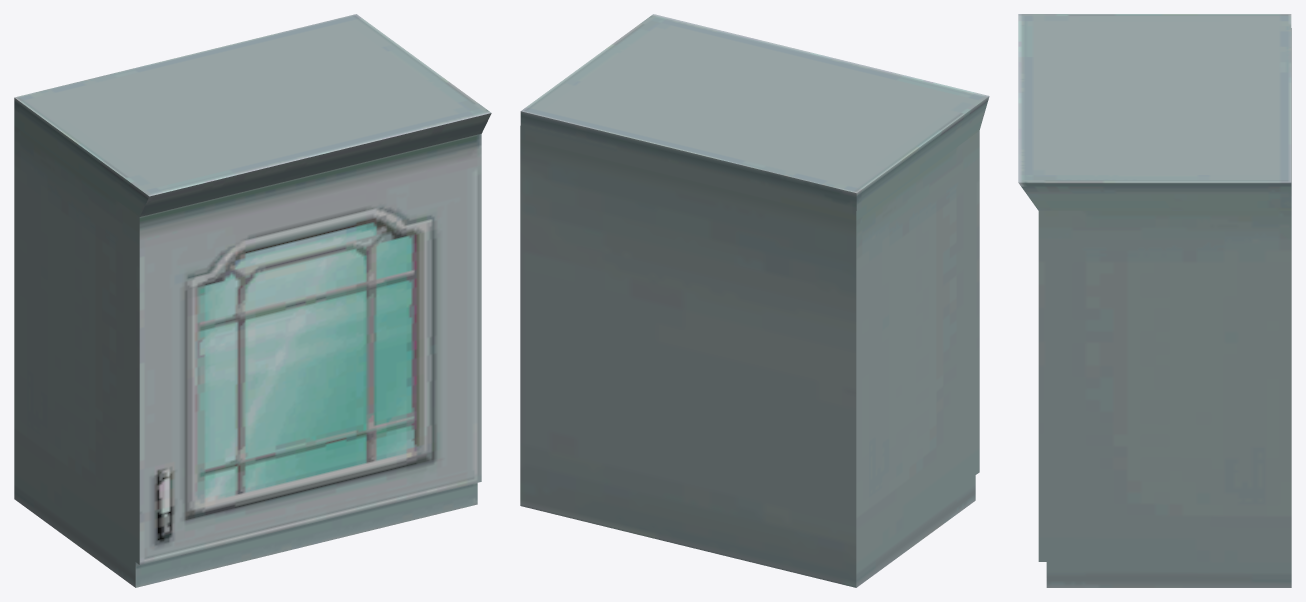
Rendered from furni_0200088_03.FBX.
3 views of the same model, side by side, from view 1: azimuth 30°, elevation 25°; view 2: azimuth 150°, elevation 25°; view 3: azimuth 270°, elevation 25° (orthographic). The views are drawn at different scales.
Parts seen in each view (by area): view 1: furni_0200088_03; view 2: furni_0200088_03; view 3: furni_0200088_03.
Part boxes in pixels (x1,y1,x2,y2): furni_0200088_03: [14, 14, 491, 587]; furni_0200088_03: [520, 14, 989, 587]; furni_0200088_03: [1018, 14, 1291, 587].
Size of the model in its own units: 80.02 by 89.77 by 54.87.
1 material, 1 textured.
